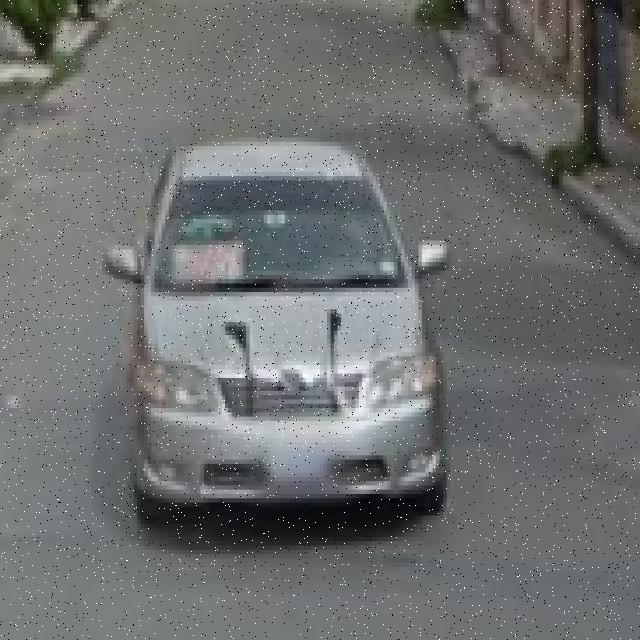cars: (109, 139, 448, 522)
